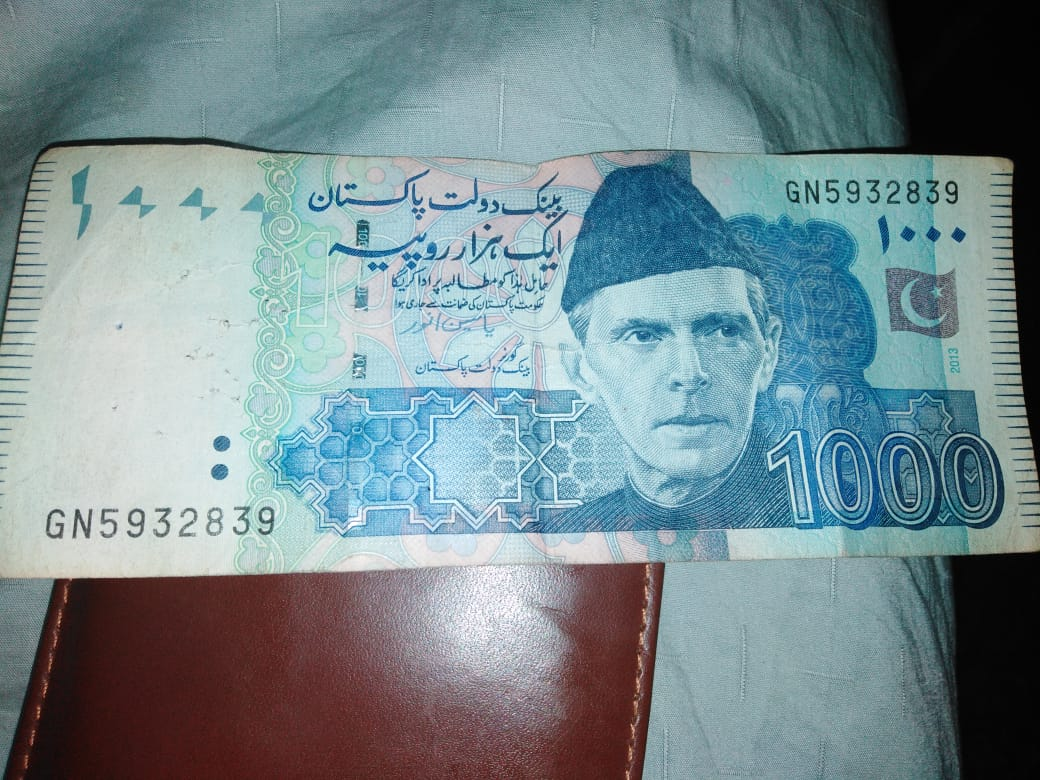1000 rupee: (19, 119, 1015, 604)
